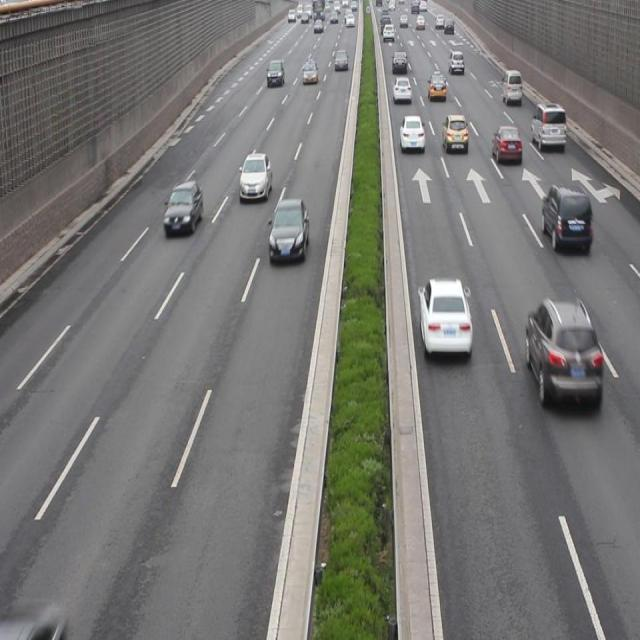car: (524, 298, 602, 412), (418, 276, 471, 360), (539, 181, 591, 256), (268, 200, 307, 263), (164, 181, 204, 235), (529, 104, 565, 148), (238, 152, 270, 201), (491, 125, 520, 169), (397, 112, 425, 155), (442, 114, 466, 155)
